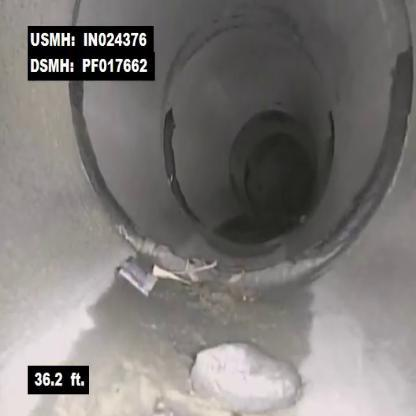Debris: (163, 315, 325, 415)
